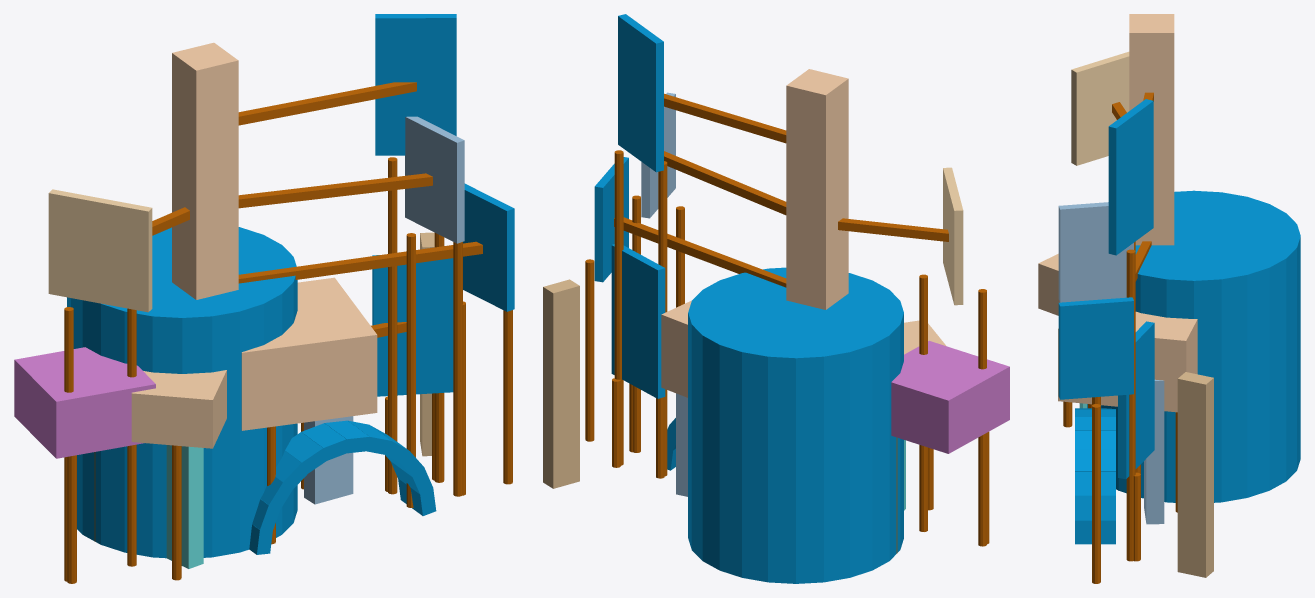
Rendered from folie_tag_130.glb.
The picture shows the model from 3 angles, left to right: view 1: azimuth 30°, elevation 25°; view 2: azimuth 150°, elevation 25°; view 3: azimuth 270°, elevation 25°; orthographic projection. The views are drawn at different scales.
Visible parts, largest first — view 1: folie_tag_130_00_drum, folie_tag_130_line, folie_tag_130_core, folie_tag_130_01_block, folie_tag_130_06_panel, folie_tag_130_02_block, folie_tag_130_05_panel, folie_tag_130_08_panel, folie_tag_130_03_arc, folie_tag_130_09_block, folie_tag_130_11_panel, folie_tag_130_12_panel (+3 smaller); view 2: folie_tag_130_00_drum, folie_tag_130_line, folie_tag_130_core, folie_tag_130_02_block, folie_tag_130_07_fin, folie_tag_130_05_panel, folie_tag_130_08_panel, folie_tag_130_12_panel, folie_tag_130_06_panel, folie_tag_130_01_block, folie_tag_130_11_panel, folie_tag_130_04_fin (+1 smaller); view 3: folie_tag_130_00_drum, folie_tag_130_12_panel, folie_tag_130_07_fin, folie_tag_130_core, folie_tag_130_05_panel, folie_tag_130_11_panel, folie_tag_130_line, folie_tag_130_06_panel, folie_tag_130_03_arc, folie_tag_130_01_block, folie_tag_130_08_panel, folie_tag_130_04_fin (+1 smaller).
Part boxes in pixels (x1,y1,x2,y2): folie_tag_130_00_drum: (67,227,297,558); folie_tag_130_line: (64,82,512,583); folie_tag_130_core: (172,42,238,299); folie_tag_130_01_block: (241,277,377,430); folie_tag_130_06_panel: (48,189,152,312); folie_tag_130_02_block: (14,347,155,458); folie_tag_130_05_panel: (375,14,456,155); folie_tag_130_08_panel: (372,255,453,396); folie_tag_130_03_arc: (249,420,436,554); folie_tag_130_09_block: (131,370,226,448); folie_tag_130_11_panel: (405,116,464,243); folie_tag_130_12_panel: (463,183,514,311); folie_tag_130_00_drum: (688,267,903,583); folie_tag_130_line: (585,93,989,553); folie_tag_130_core: (786,69,848,309); folie_tag_130_02_block: (891,340,1009,453); folie_tag_130_07_fin: (543,279,579,488); folie_tag_130_05_panel: (618,14,663,172); folie_tag_130_08_panel: (611,244,665,398); folie_tag_130_12_panel: (594,157,628,282); folie_tag_130_06_panel: (943,167,963,305); folie_tag_130_01_block: (661,300,691,397); folie_tag_130_11_panel: (641,92,675,218); folie_tag_130_04_fin: (676,393,687,496); folie_tag_130_00_drum: (1087,190,1300,502); folie_tag_130_12_panel: (1058,297,1133,399); folie_tag_130_07_fin: (1177,372,1213,577); folie_tag_130_core: (1129,14,1174,245); folie_tag_130_05_panel: (1108,99,1153,255); folie_tag_130_11_panel: (1058,202,1133,302); folie_tag_130_line: (1063,92,1177,583); folie_tag_130_06_panel: (1071,51,1129,165); folie_tag_130_03_arc: (1075,408,1115,544); folie_tag_130_01_block: (1058,311,1197,412); folie_tag_130_08_panel: (1118,321,1154,479); folie_tag_130_04_fin: (1144,379,1164,524).
Size of the model in its own units: 11.83 by 11.75 by 6.4.
